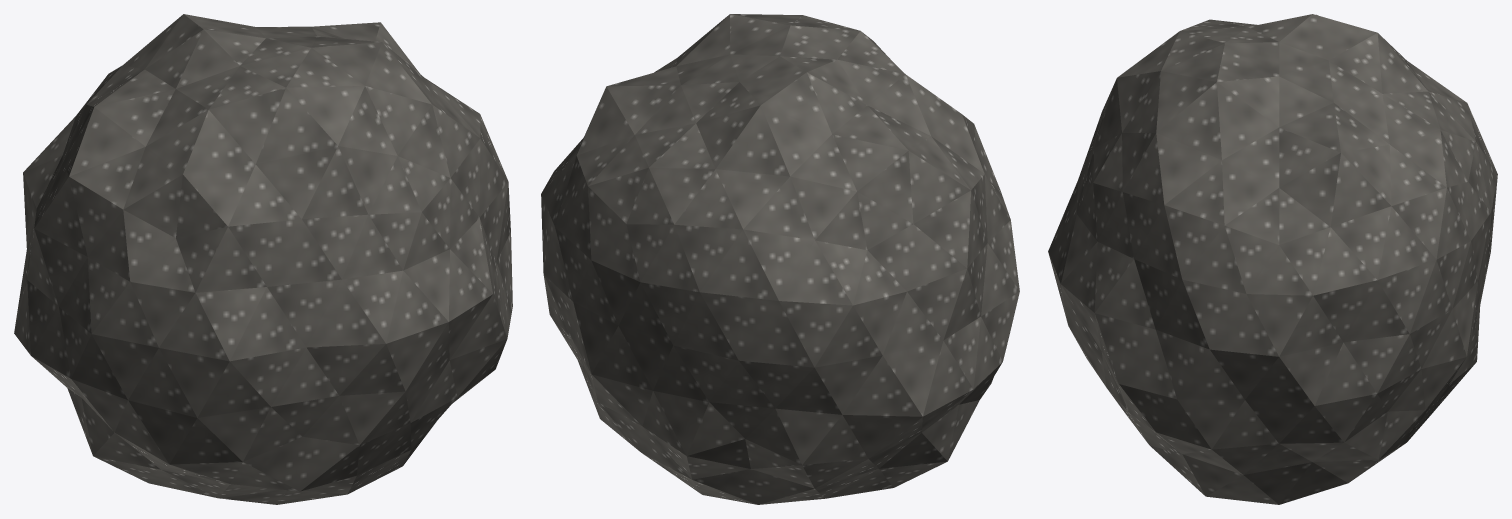
File: CatapultBoulder.fbx
The picture shows the model from 3 angles, left to right: view 1: azimuth 30°, elevation 25°; view 2: azimuth 150°, elevation 25°; view 3: azimuth 270°, elevation 25°; orthographic projection. The views are drawn at different scales.
Parts seen in each view (by area): view 1: CatapultBoulder; view 2: CatapultBoulder; view 3: CatapultBoulder.
Boxes of the visible parts, left/top/right/bottom form: CatapultBoulder: left=14, top=14, right=512, bottom=504; CatapultBoulder: left=541, top=14, right=1019, bottom=504; CatapultBoulder: left=1048, top=14, right=1497, bottom=504.
Size of the model in its own units: 0.4072 by 0.3966 by 0.3732.
